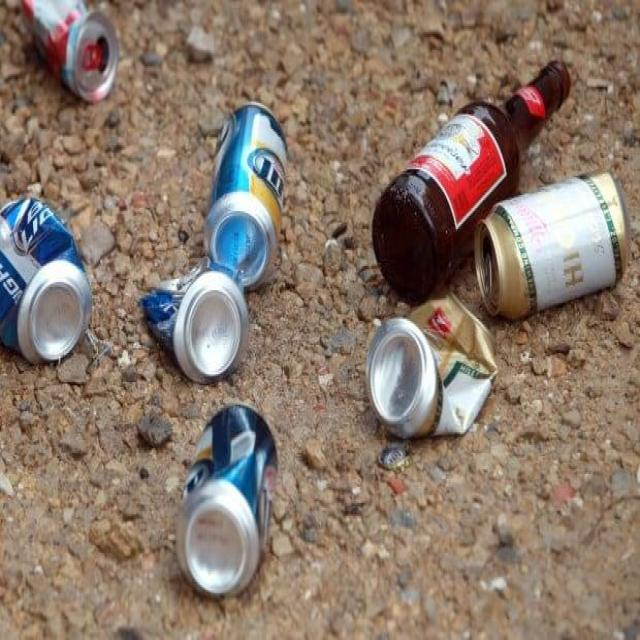can: (0, 197, 92, 364), (138, 258, 250, 386), (18, 0, 120, 102)
pop tab: (82, 44, 102, 74)
